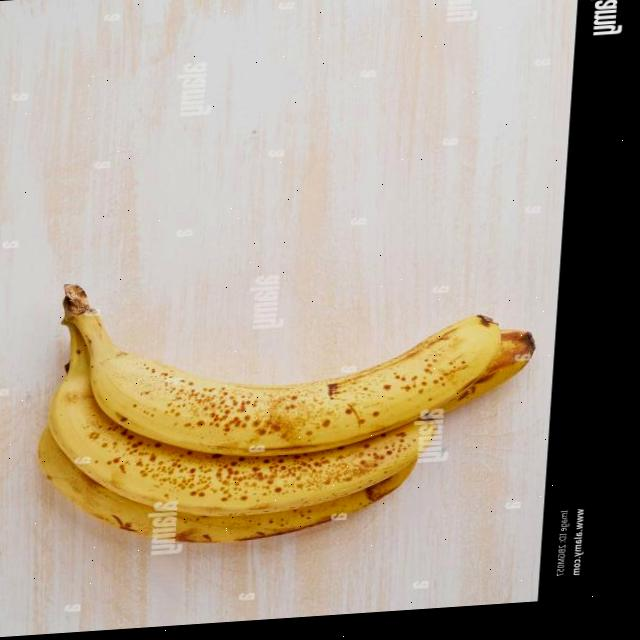banana: (22, 249, 548, 561)
